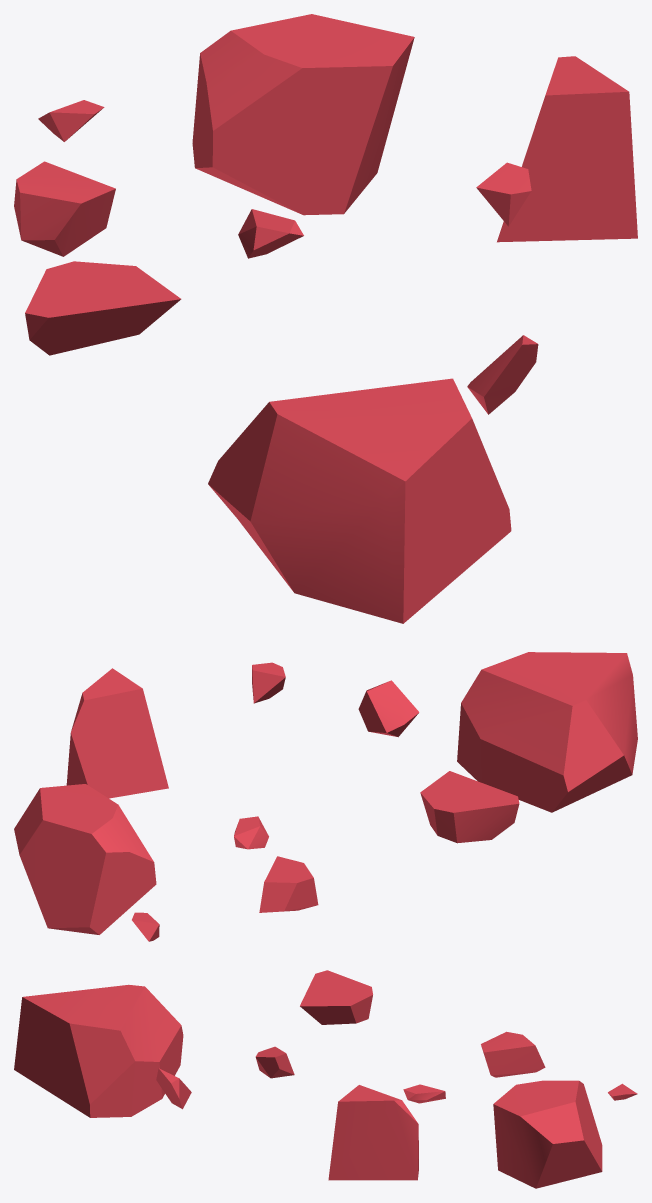
Rendered from Stone.fbx.
3 renders of one model, top to bottom at view 1: azimuth 30°, elevation 25°; view 2: azimuth 150°, elevation 25°; view 3: azimuth 270°, elevation 25°, orthographic. The views are drawn at different scales.
Visible parts, largest first — view 1: StoneBig1, StoneBig, StoneMidBig, StoneMid1, StoneMid, StoneSmall, StoneSmall3, StoneSmall1, StoneSmall2; view 2: StoneBig1, StoneBig, StoneMidBig, StoneMid1, StoneMid, StoneSmall, StoneSmall1, StoneSmall3, StoneSmall2; view 3: StoneBig1, StoneBig, StoneMidBig, StoneMid1, StoneMid, StoneSmall1, StoneSmall, StoneSmall3.
Boxes of the visible parts, x1=… form: StoneBig1: x1=208, y1=378, x2=511, y2=623; StoneBig: x1=192, y1=14, x2=414, y2=215; StoneMidBig: x1=497, y1=56, x2=637, y2=242; StoneMid1: x1=25, y1=261, x2=181, y2=355; StoneMid: x1=14, y1=161, x2=115, y2=256; StoneSmall: x1=467, y1=335, x2=538, y2=414; StoneSmall3: x1=238, y1=209, x2=303, y2=258; StoneSmall1: x1=476, y1=162, x2=531, y2=226; StoneSmall2: x1=38, y1=100, x2=104, y2=141; StoneBig1: x1=457, y1=652, x2=637, y2=812; StoneBig: x1=14, y1=784, x2=156, y2=934; StoneMidBig: x1=66, y1=668, x2=168, y2=798; StoneMid1: x1=420, y1=771, x2=519, y2=843; StoneMid: x1=259, y1=856, x2=318, y2=912; StoneSmall: x1=358, y1=680, x2=419, y2=737; StoneSmall1: x1=252, y1=662, x2=285, y2=703; StoneSmall3: x1=234, y1=816, x2=268, y2=849; StoneSmall2: x1=132, y1=912, x2=159, y2=941; StoneBig1: x1=14, y1=984, x2=183, y2=1117; StoneBig: x1=493, y1=1080, x2=602, y2=1188; StoneMidBig: x1=328, y1=1085, x2=418, y2=1180; StoneMid1: x1=300, y1=970, x2=372, y2=1024; StoneMid: x1=481, y1=1031, x2=545, y2=1077; StoneSmall1: x1=255, y1=1046, x2=294, y2=1078; StoneSmall: x1=156, y1=1068, x2=191, y2=1109; StoneSmall3: x1=403, y1=1084, x2=445, y2=1103.
Bounding box in the file's own units: 11.59 × 3.59 × 18.23.
